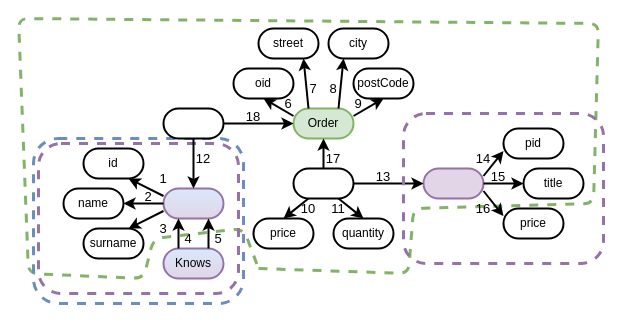
Image size: 622x322. Some labels were removed from this diagram. Here are the shapes that lost their labels. From the top down, the box of each, then its label:
(162, 107, 224, 139): Ordered
(162, 187, 224, 219): Customer
(292, 167, 354, 199): Items
(422, 167, 484, 199): Product
